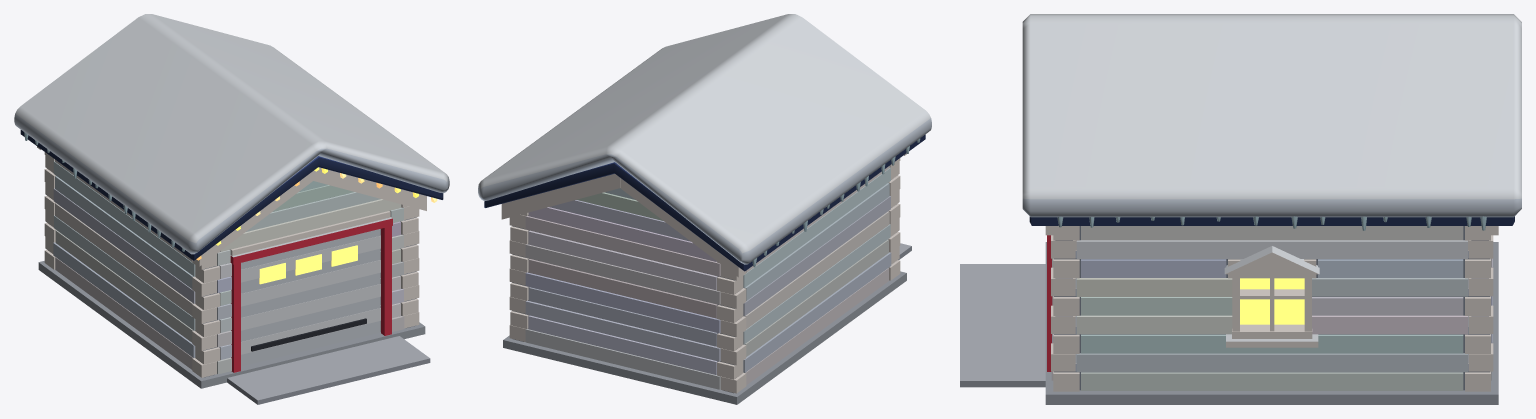
The model's file is Garage.glb.
3 views of the same model, side by side, from view 1: azimuth 30°, elevation 25°; view 2: azimuth 150°, elevation 25°; view 3: azimuth 270°, elevation 25° (orthographic). The views are drawn at different scales.
Visible parts, largest first — view 1: Garage_Roof, Garage_Walls, Garage_Door, Garage_Foundation, Garage_Glow; view 2: Garage_Roof, Garage_Walls, Garage_Foundation; view 3: Garage_Roof, Garage_Walls, Garage_Foundation, Garage_Door, Garage_Glow.
Part boxes in pixels (bbox=[...]): Garage_Roof: bbox=[14, 14, 449, 260]; Garage_Walls: bbox=[37, 146, 426, 377]; Garage_Door: bbox=[230, 217, 392, 372]; Garage_Foundation: bbox=[38, 261, 430, 404]; Garage_Glow: bbox=[259, 245, 357, 284]; Garage_Roof: bbox=[478, 14, 931, 271]; Garage_Walls: bbox=[501, 153, 906, 393]; Garage_Foundation: bbox=[503, 243, 911, 404]; Garage_Roof: bbox=[1022, 14, 1521, 230]; Garage_Walls: bbox=[1045, 226, 1498, 391]; Garage_Foundation: bbox=[960, 242, 1498, 404]; Garage_Door: bbox=[1047, 235, 1319, 371]; Garage_Glow: bbox=[1240, 278, 1304, 324].
Bounding box in the file's own units: 18.2 × 14.91 × 24.3.
